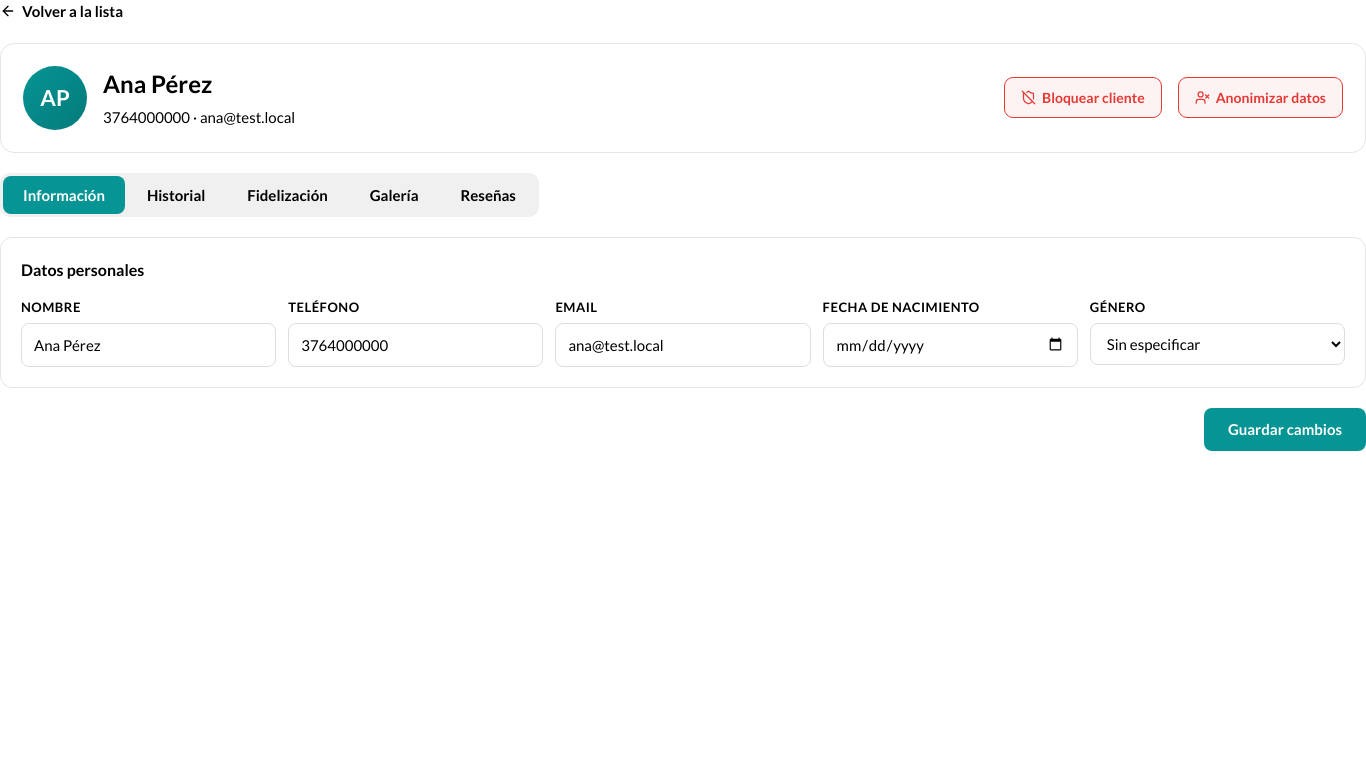
Test case: ClientDetail: anonimizar datos de la clienta › al confirmar anonimiza la clienta y muestra el mensaje de éxito
This screenshot has width=1366, height=768.
Click the button "Anonimizar datos". click: (1260, 98)
box: top-left (1178, 77), bottom-right (1343, 118)
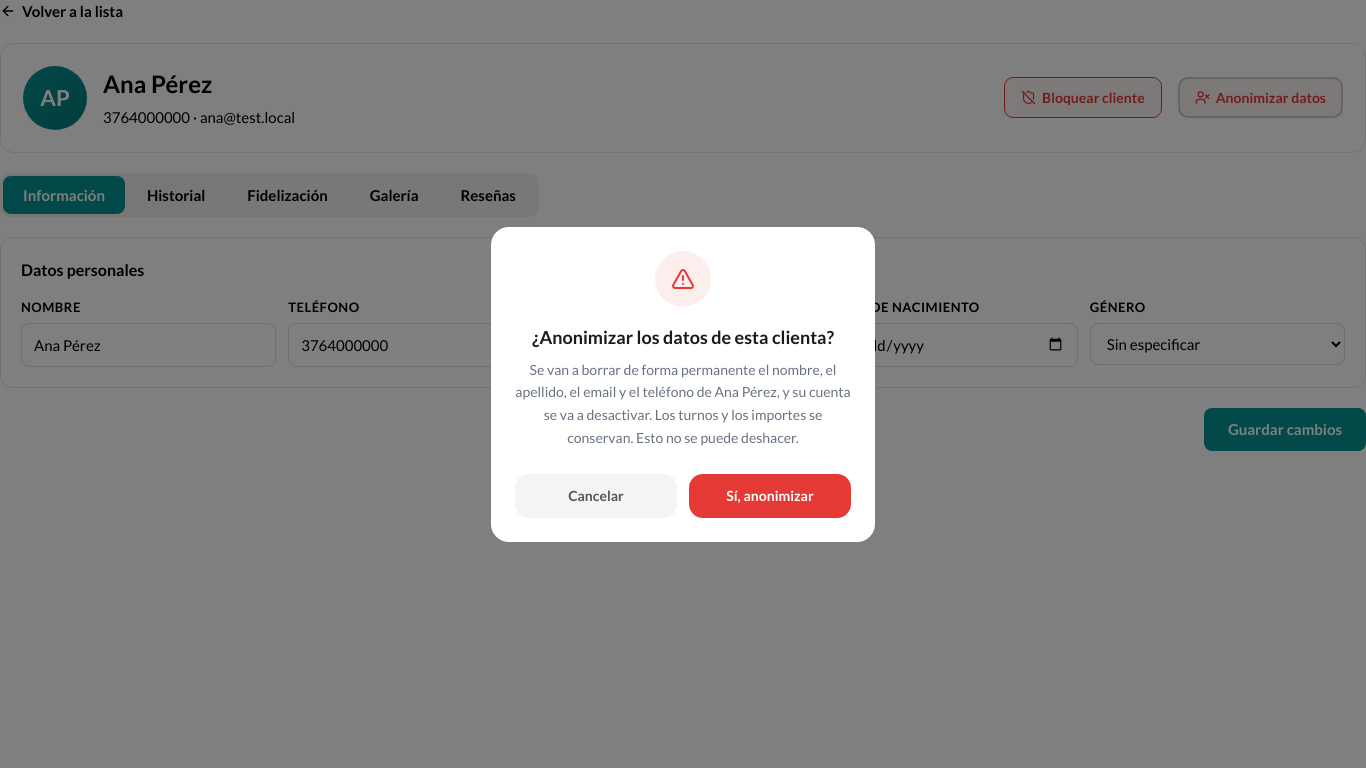
Click the button "Sí, anonimizar". click: (770, 496)
box: top-left (689, 474), bottom-right (851, 518)
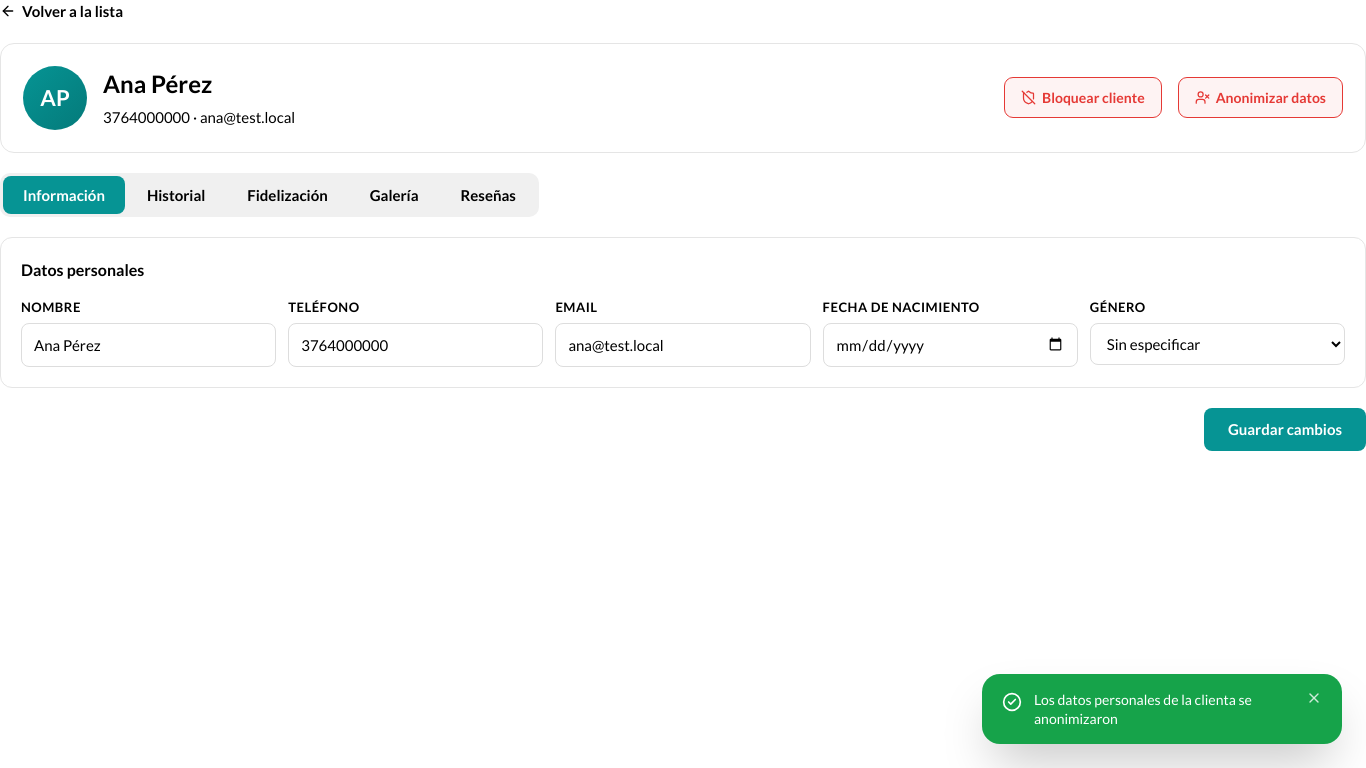
Check: the text "Los datos personales de la clienta se anonimizaron" is shown, box top-left (1034, 690), bottom-right (1252, 727)
